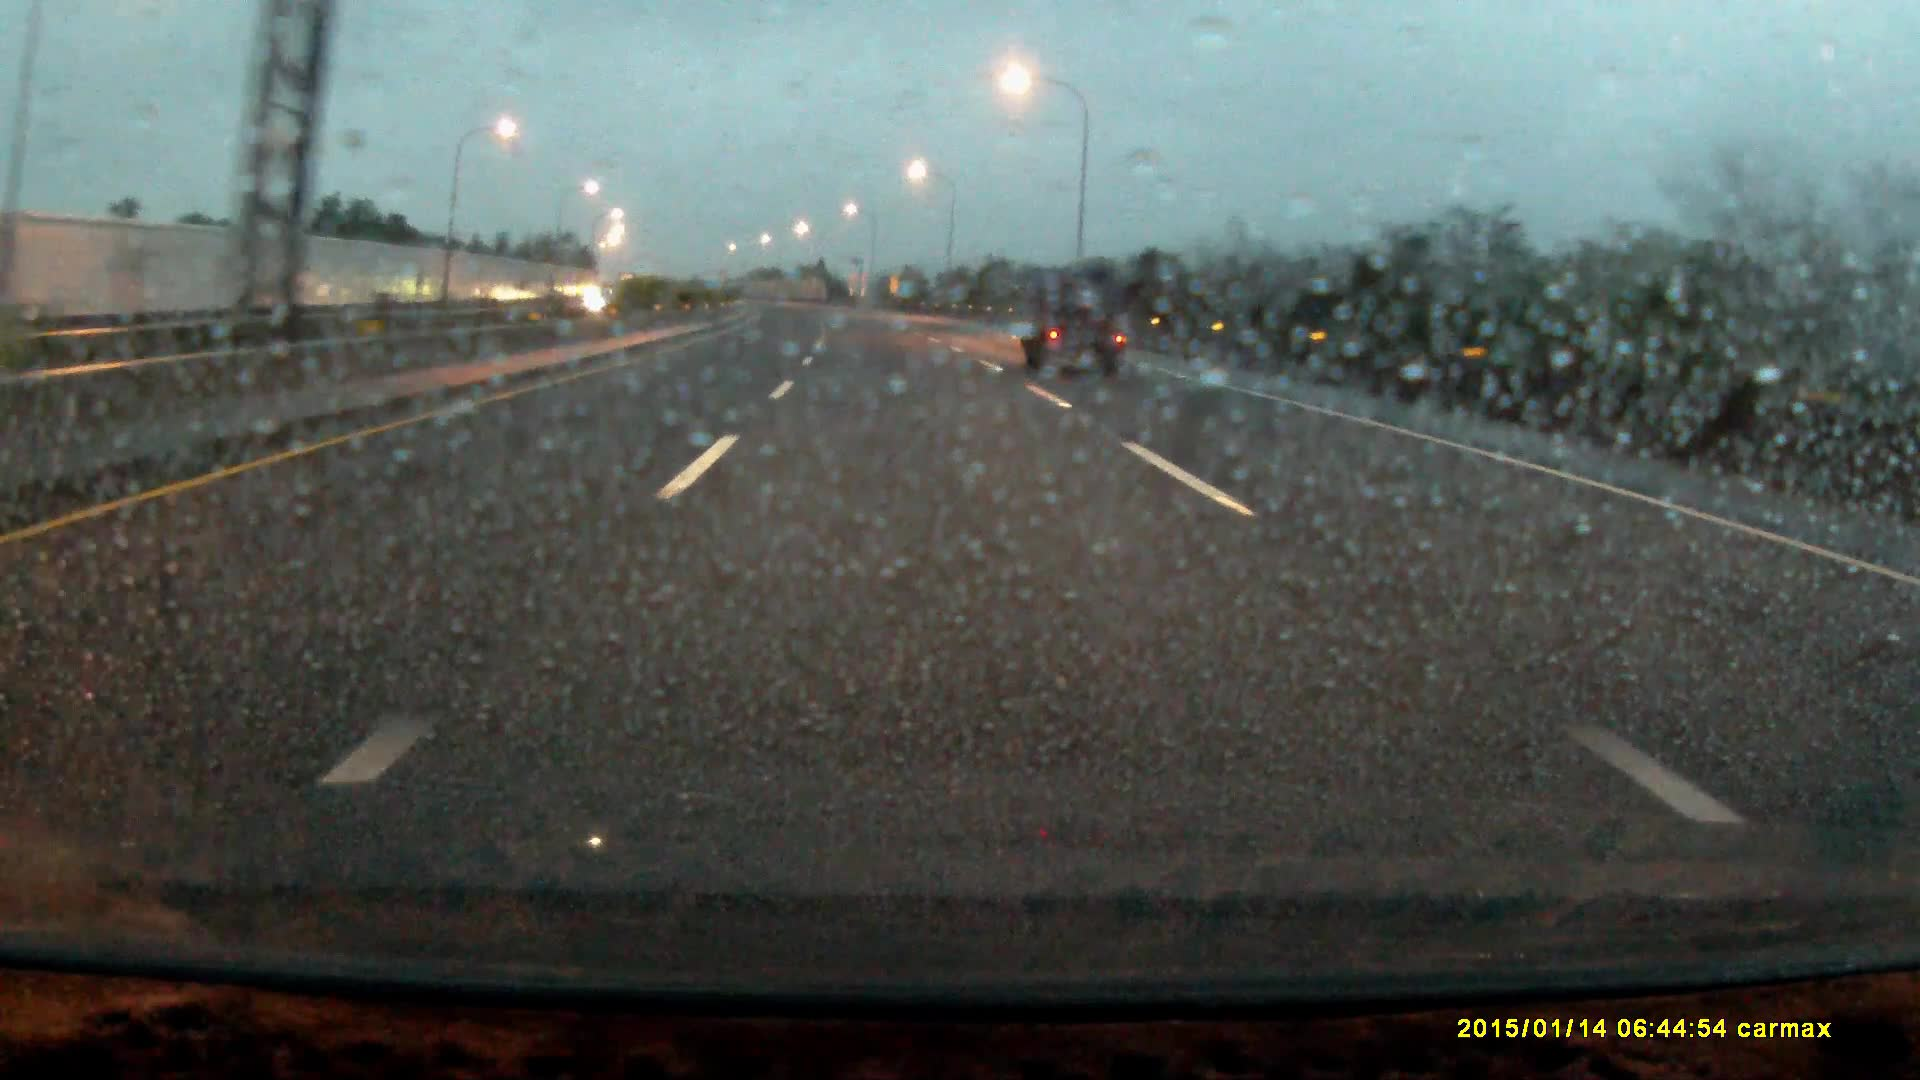vehicle: (1023, 273, 1129, 377), (558, 281, 622, 316)
